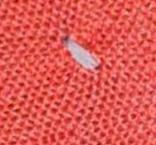hole: (62, 34, 104, 74)
